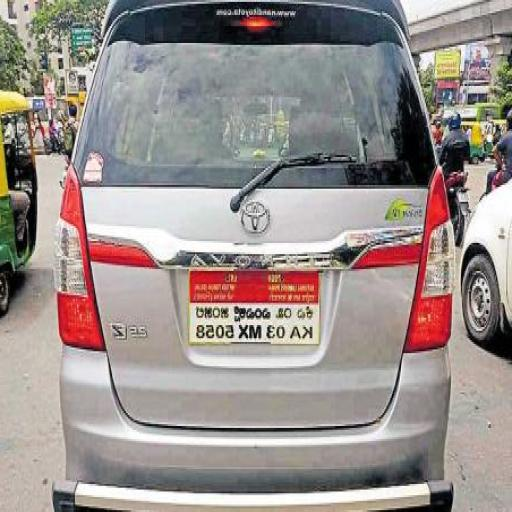License: (190, 299, 321, 342)
